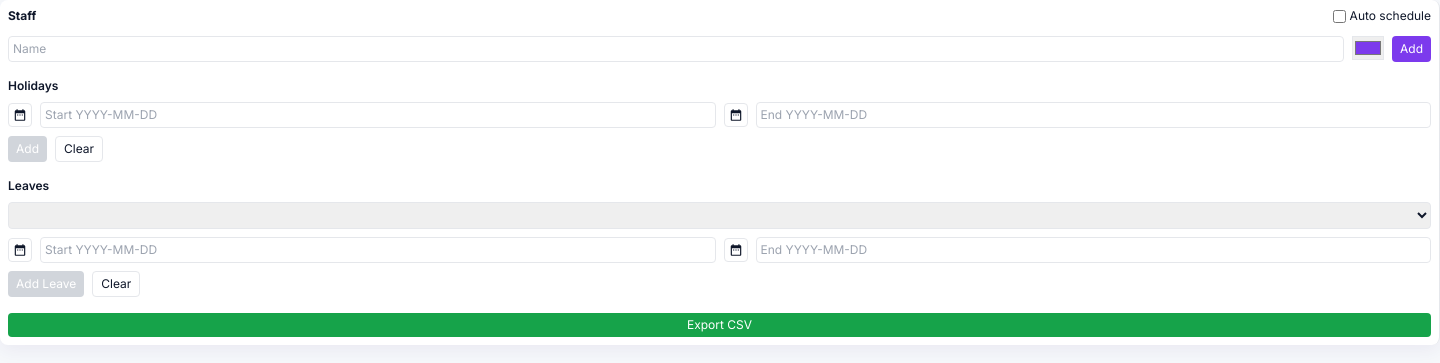
Scenario: clear button resets selection
The width and height of the screenshot is (1440, 363).
Type "2025-09-10" into the date field named "holiday start". click: (720, 132)
box: top-left (8, 102), bottom-right (1431, 162)
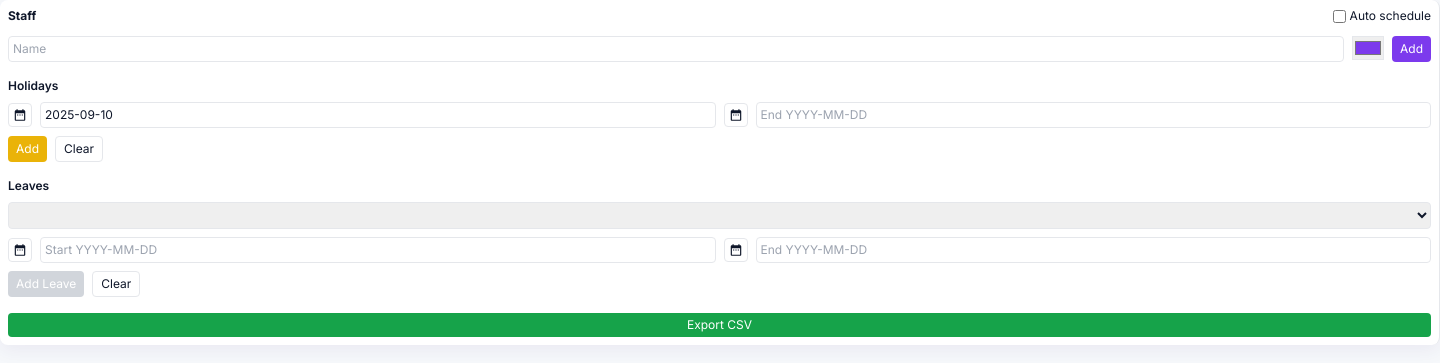
Type "2025-09-12" into the date field named "holiday end". click: (720, 132)
box: top-left (8, 102), bottom-right (1431, 162)
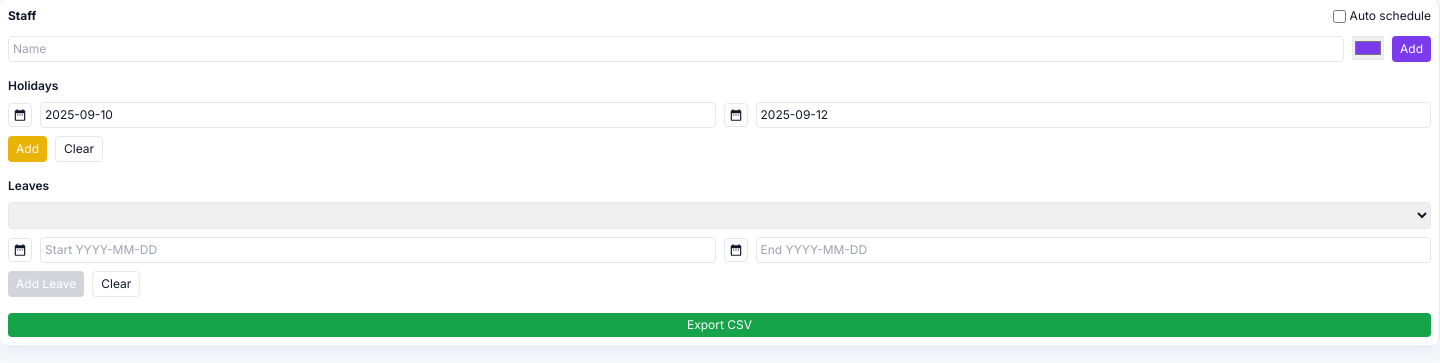
Click the button with aria-label "Clear holiday selection". click: (79, 149)
box: top-left (55, 136), bottom-right (103, 162)
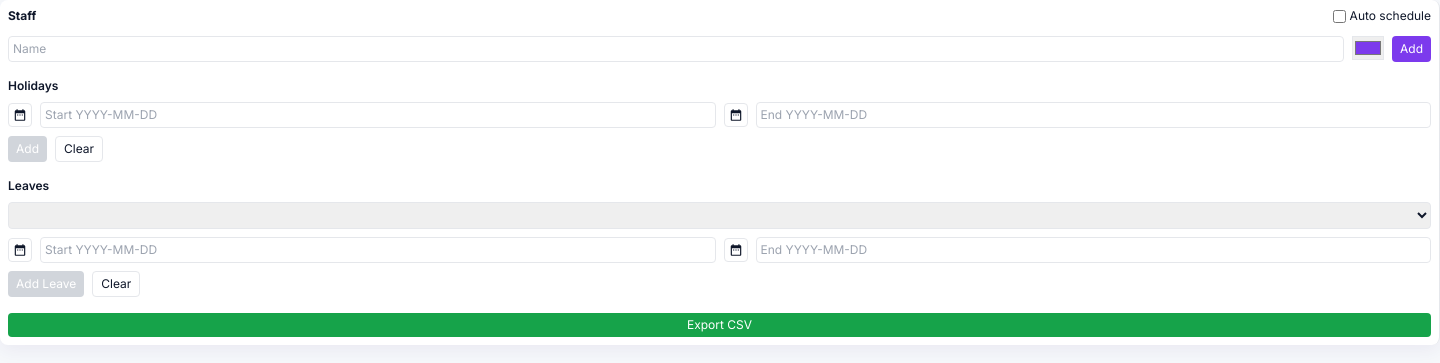
Now the field named "selected holiday start" is empty, box top-left (40, 102), bottom-right (716, 128)
Now the field named "selected holiday end" is empty, box top-left (756, 102), bottom-right (1431, 128)
